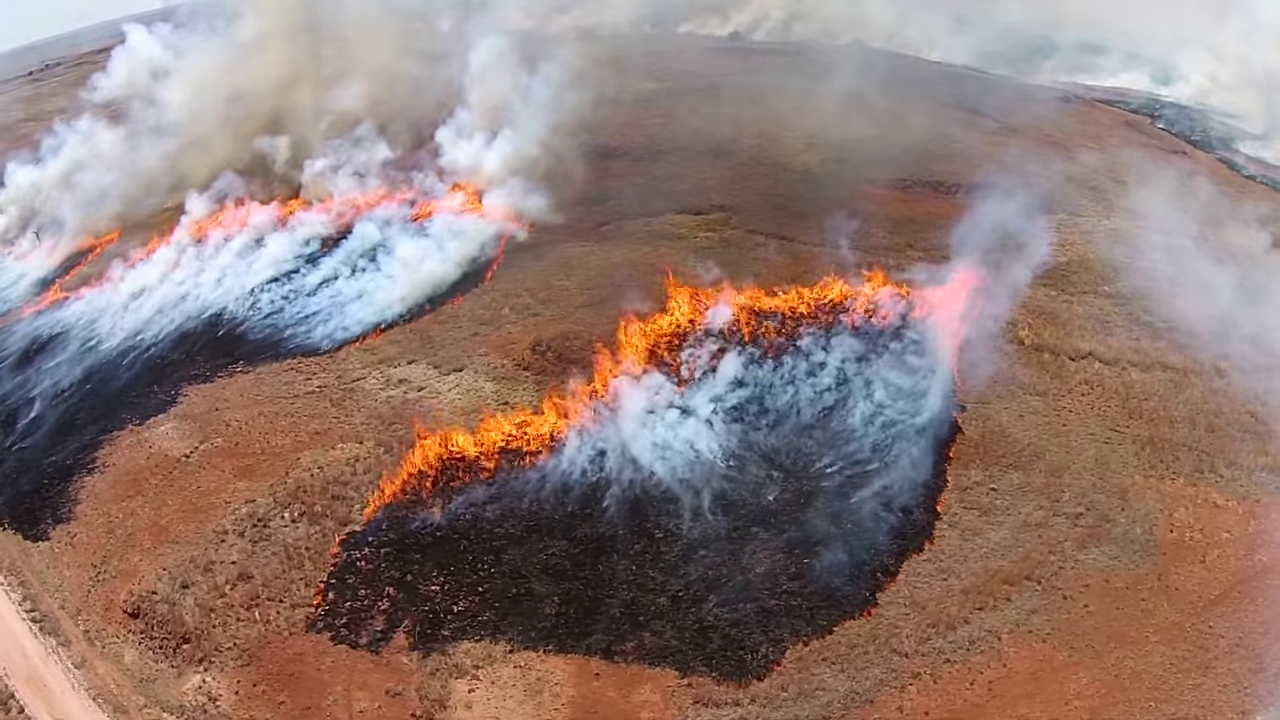forest_fire: (363, 271, 975, 522), (125, 190, 409, 266), (20, 231, 120, 313), (410, 184, 486, 220)
